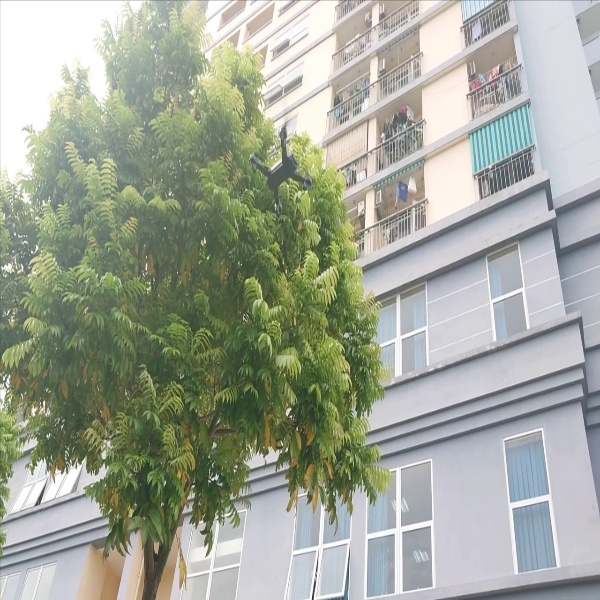drone: (244, 122, 316, 217)
